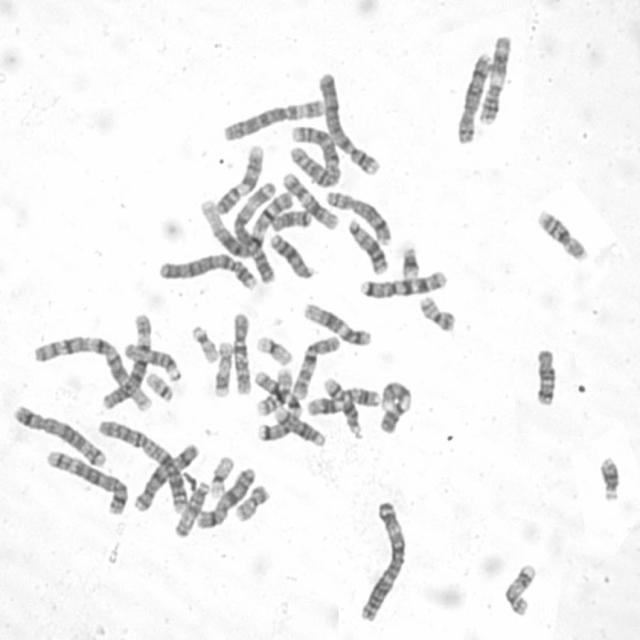A1: (29, 329, 155, 412), (194, 186, 294, 258)
A2: (93, 414, 192, 514), (284, 119, 342, 189)
A3: (354, 495, 409, 624), (230, 178, 278, 284)
B4: (314, 65, 382, 177), (153, 248, 260, 290)
B5: (8, 399, 109, 469), (41, 444, 129, 516)
C10: (288, 330, 342, 400), (228, 306, 253, 396)
C11: (476, 29, 512, 126), (303, 381, 381, 417)
C12: (277, 166, 341, 231), (298, 296, 374, 347)
C6: (97, 307, 153, 411), (218, 94, 326, 142)
C7: (251, 365, 300, 441), (354, 264, 449, 300)
C8: (321, 186, 394, 246), (452, 47, 493, 145)
C9: (210, 138, 265, 215), (374, 375, 414, 435)
D13: (343, 213, 390, 276), (265, 227, 315, 280)
D14: (318, 372, 364, 440), (270, 402, 327, 448)
D15: (120, 336, 183, 384), (169, 475, 211, 539)
E16: (532, 203, 590, 263), (252, 363, 296, 416)
E17: (499, 558, 538, 618), (208, 335, 234, 399)
E18: (530, 342, 558, 408), (266, 204, 313, 232)
F19: (251, 330, 294, 367), (205, 451, 236, 498)
F20: (413, 289, 458, 333), (230, 479, 272, 523)
G21: (594, 451, 622, 502), (396, 240, 422, 279)
G22: (186, 319, 220, 365), (142, 367, 176, 402)
X: (129, 436, 201, 513), (192, 462, 256, 530)
